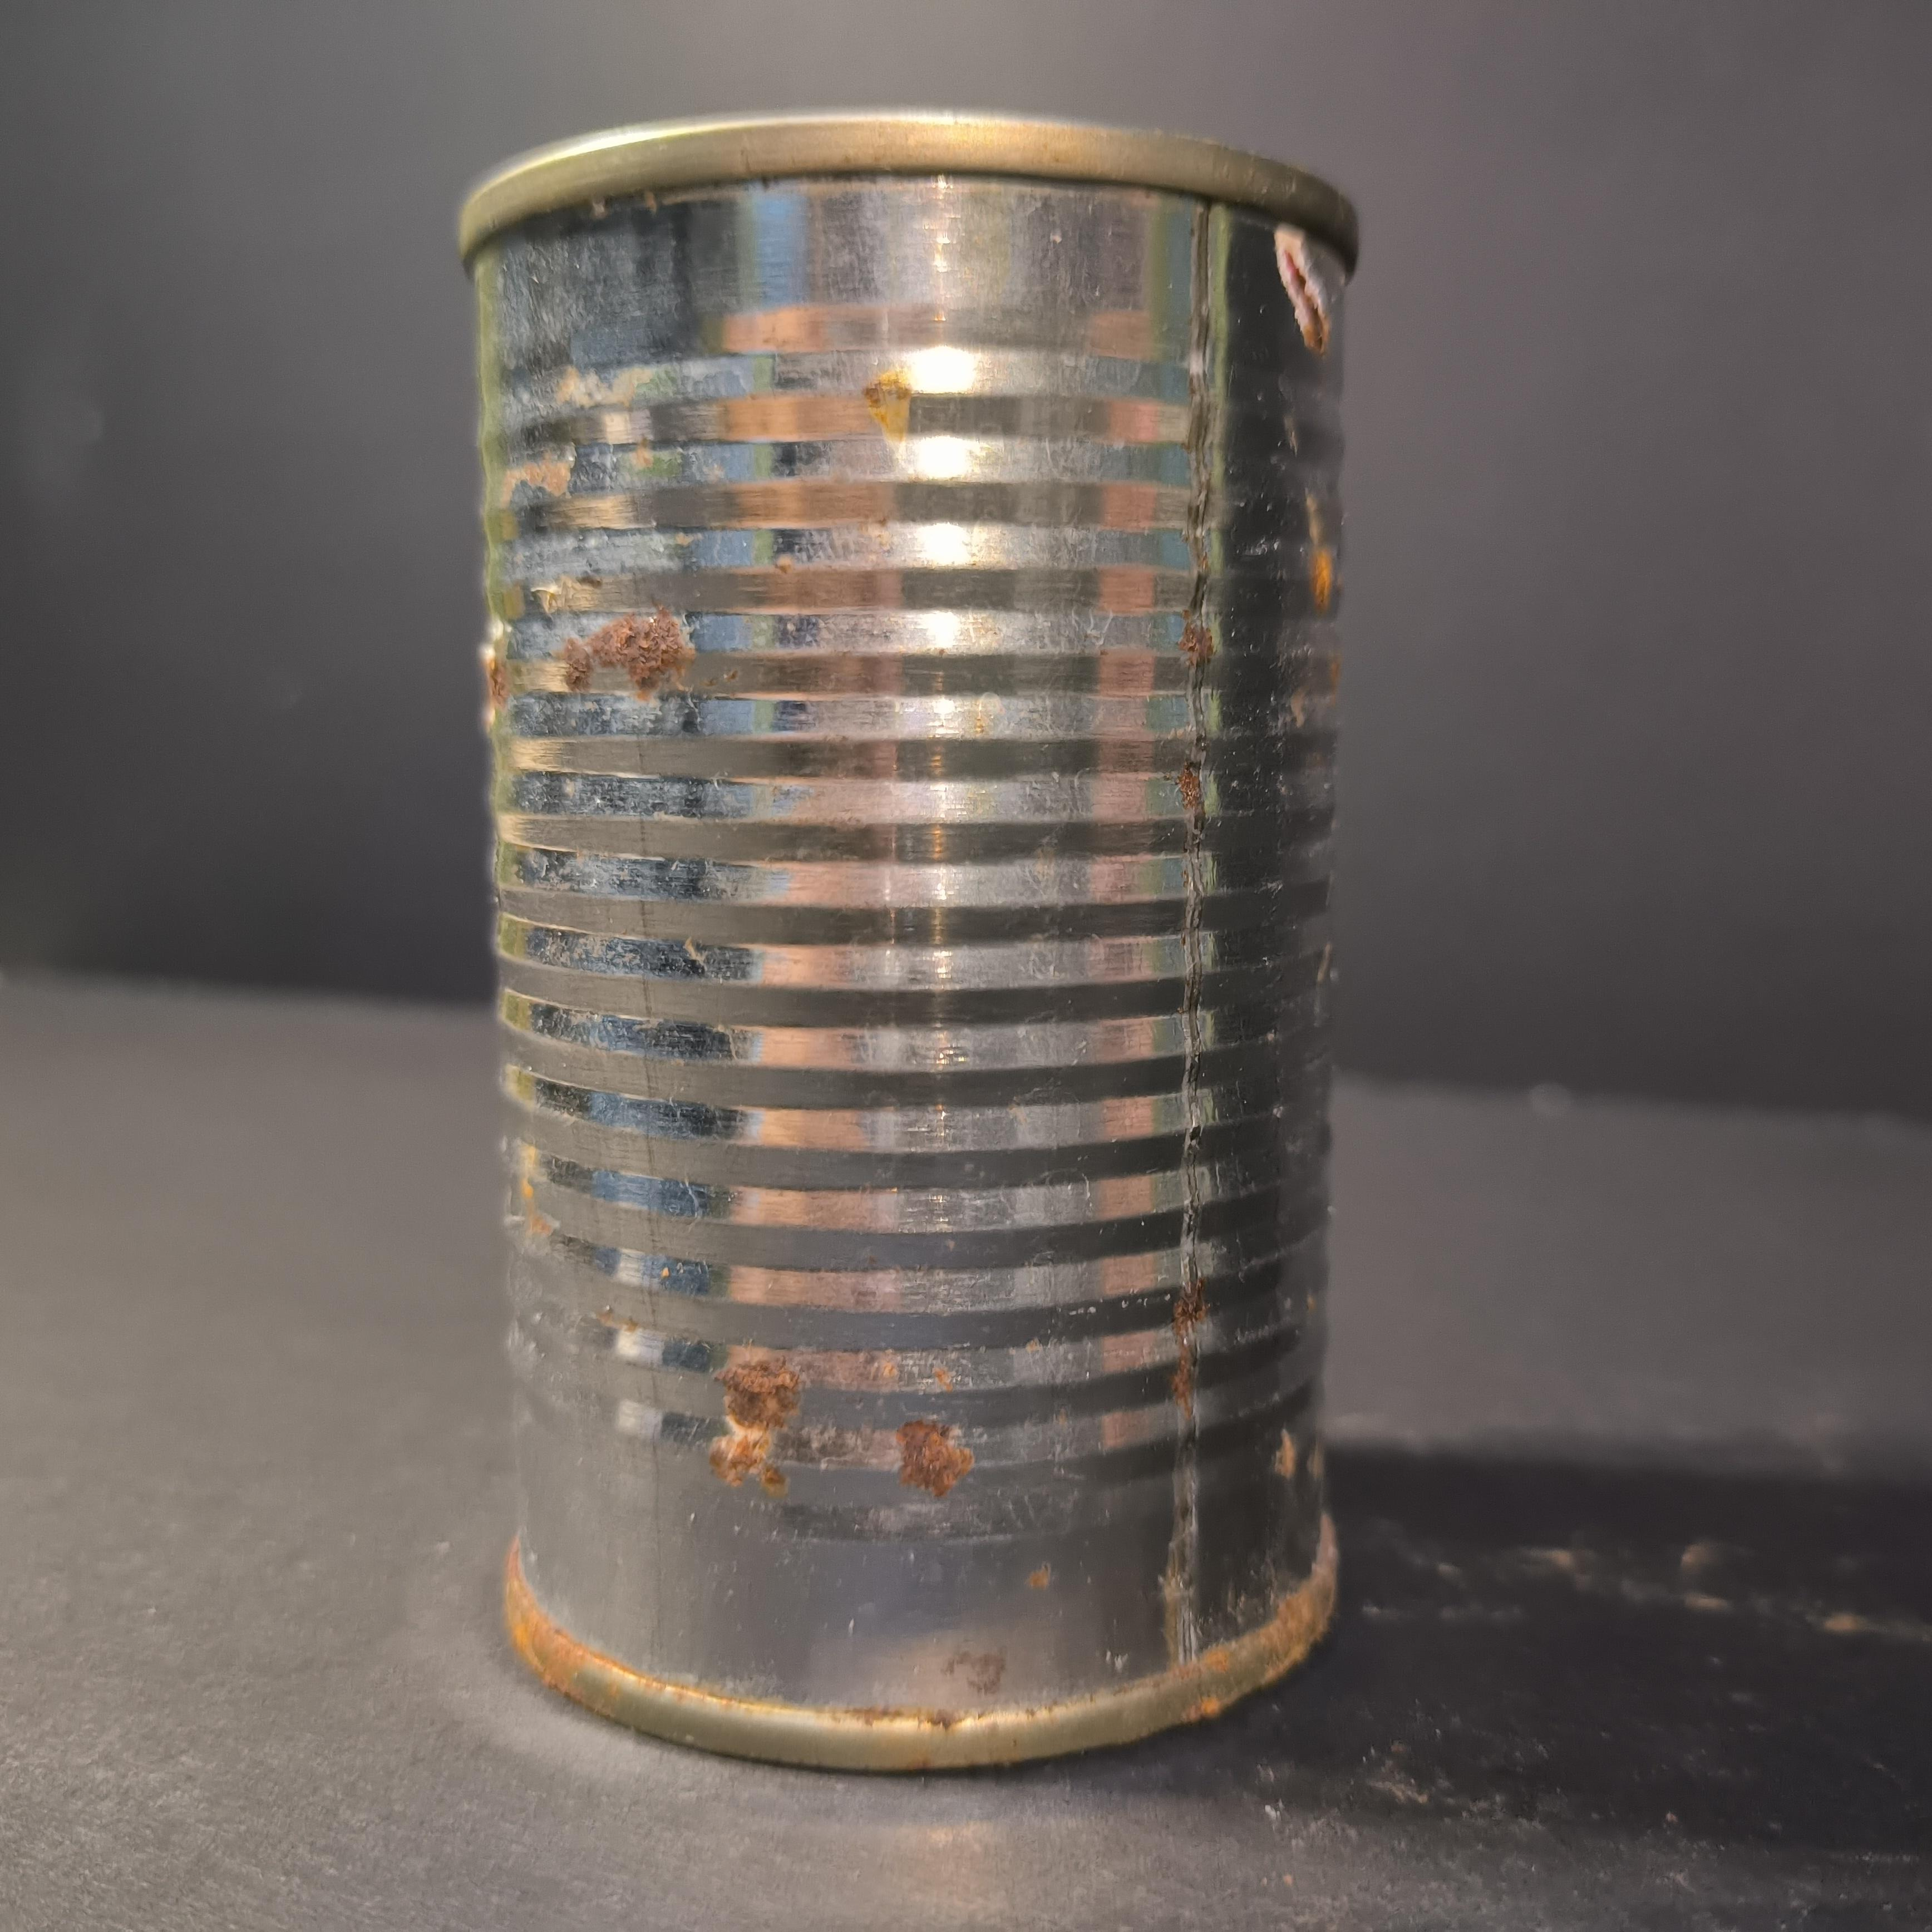Rusted: (432, 81, 1384, 1792)
